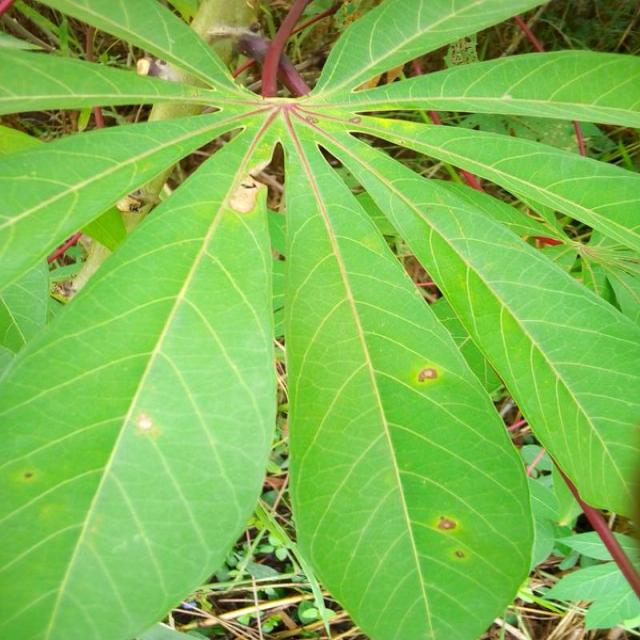cassava leaf: (2, 0, 640, 638), (2, 110, 278, 638), (282, 114, 536, 638)
